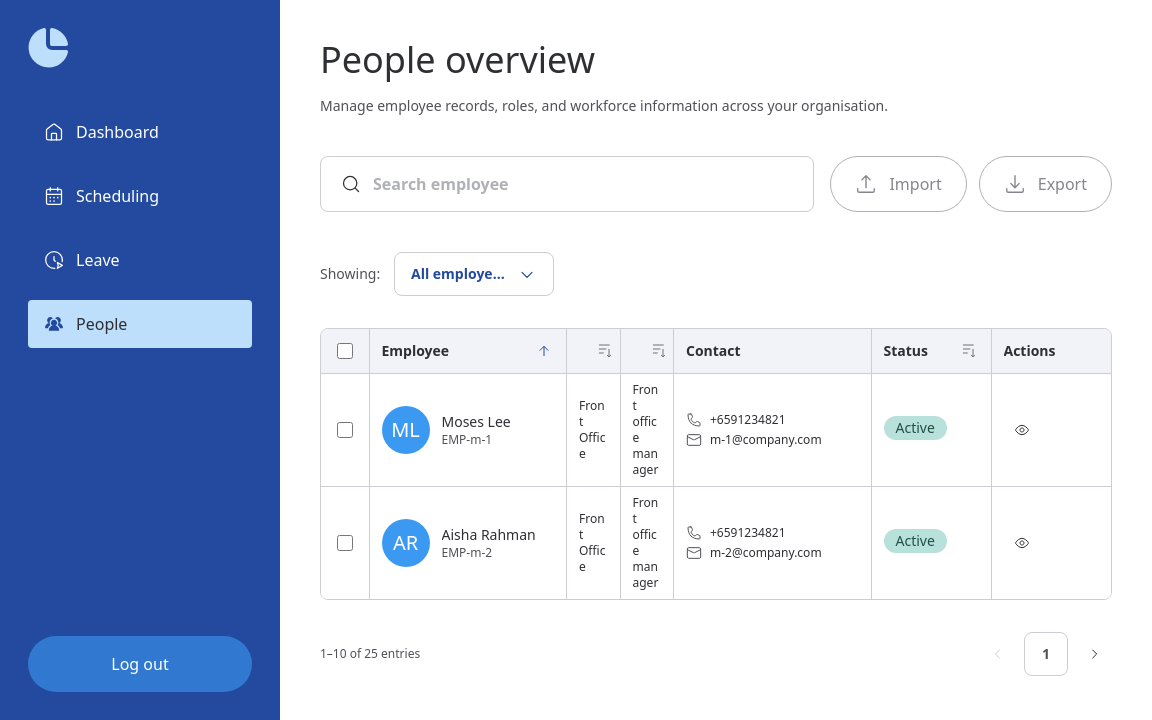
Scenario: People › ticks people for bulk actions and clears the selection on another page
The image size is (1152, 720).
expect the link "Moses Lee" is shown: met, box [442,412,511,432]
expect the button "Import" is disabled: met, box [830,156,967,212]
Click the checkbox named "Select Moses Lee" next to "ML": (345, 430) [337,422,353,438]
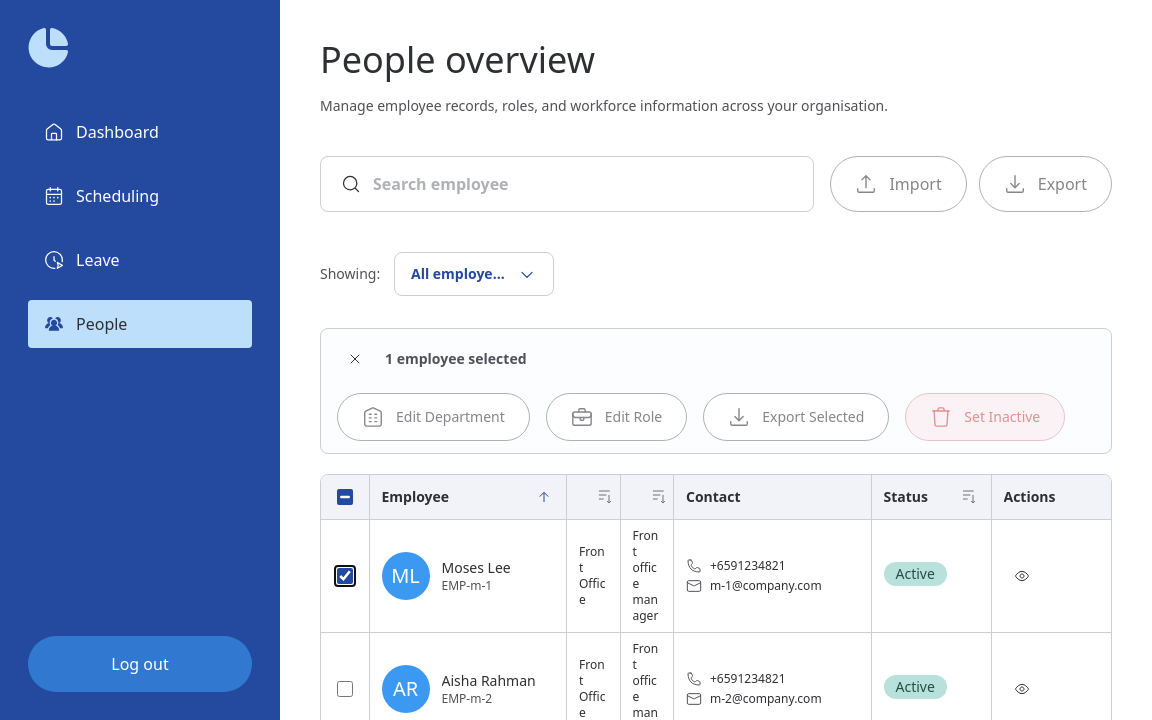
Click the checkbox named "Select Aisha Rahman" in the row of "Aisha Rahman": (345, 688) [337,680,353,696]
(page scrolled)
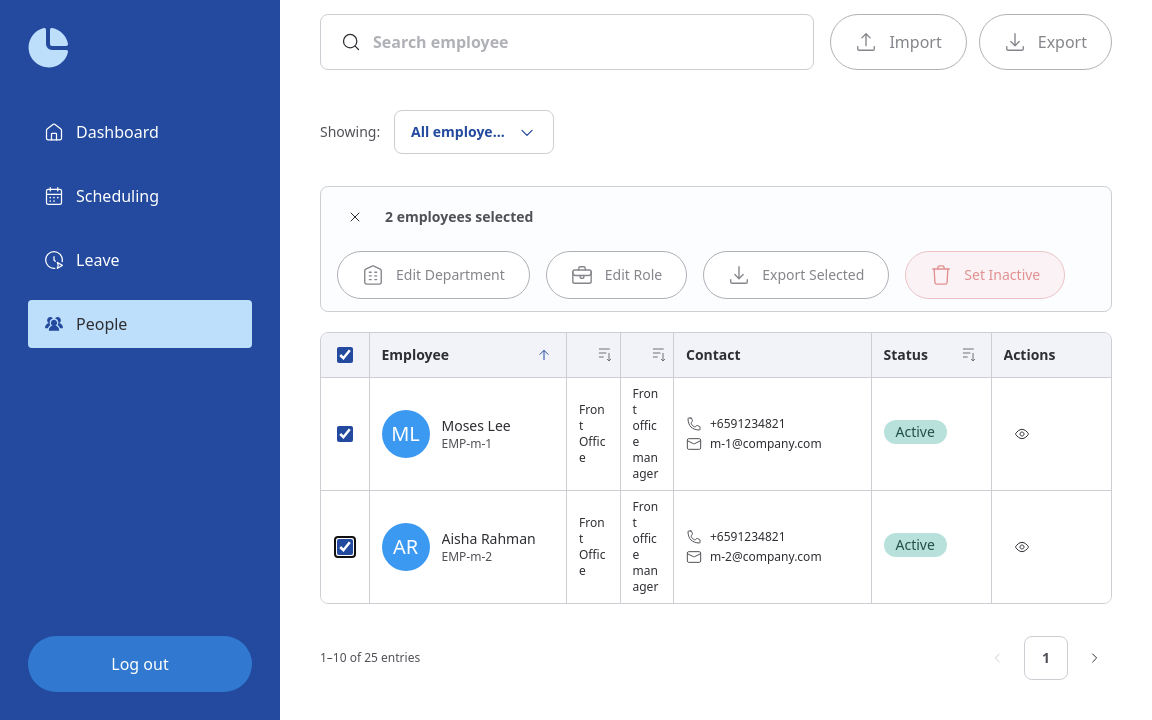
expect the button "Set Inactive" is disabled: met, box [905,251,1065,299]
expect the text "2 employees selected" is shown: met, box [385,207,534,227]
Click the button named "Next page": (1094, 658) [1076,640,1112,676]
(page scrolled)
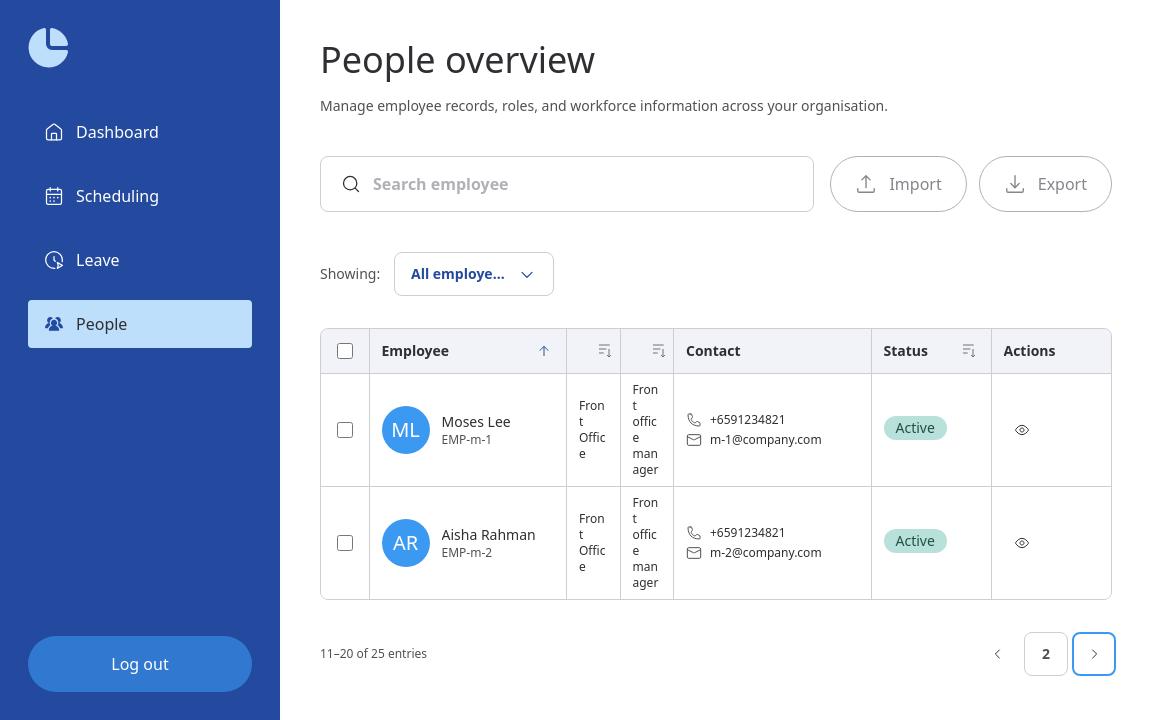
expect the text "2 employees selected" is gone: met
